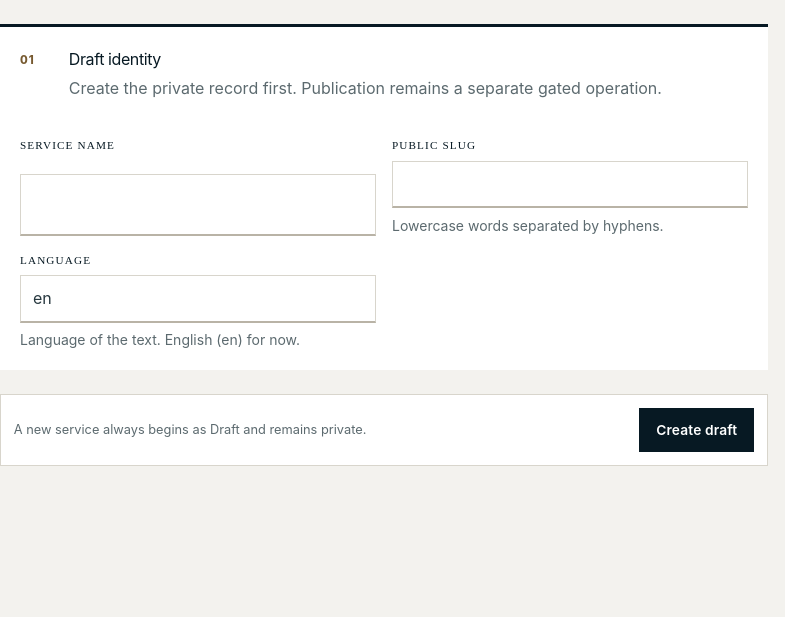
Test: S5A administration states › preserves draft identity values after a recoverable create error
The image size is (785, 617).
Type "SYNTHETIC preserved draft" into the field labelled "Service name". click: (198,205)
box: [20,174,376,236]
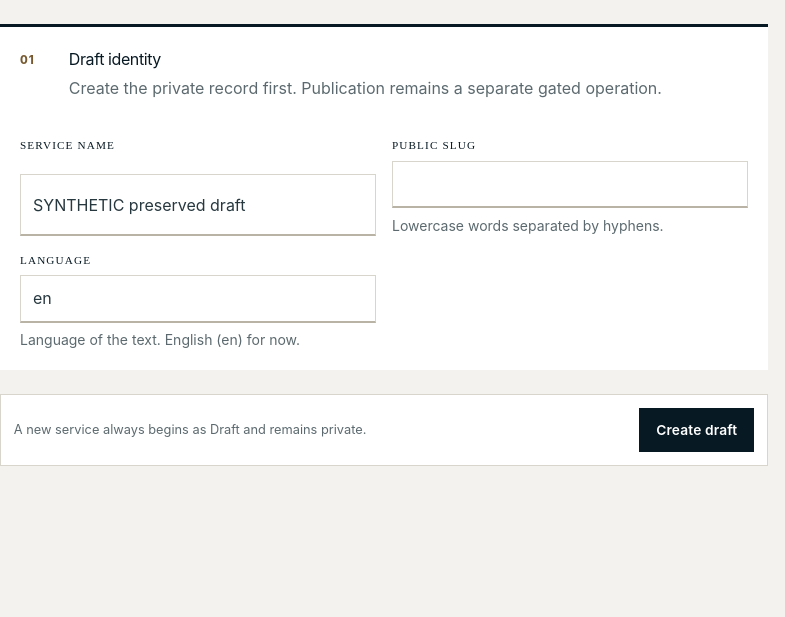
Type "synthetic-preserved-draft" into the field labelled "Public slug". click: (570,184)
box: [392,161,748,208]
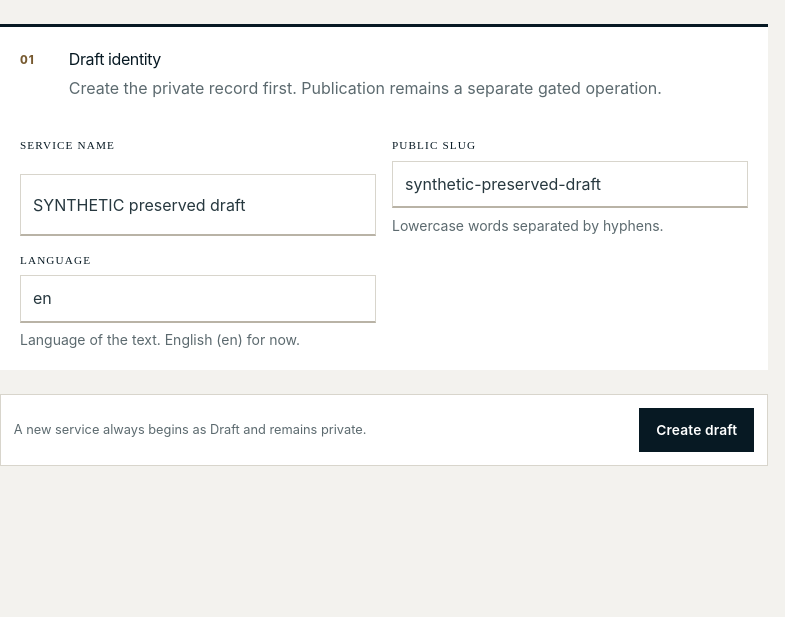
Submit the form
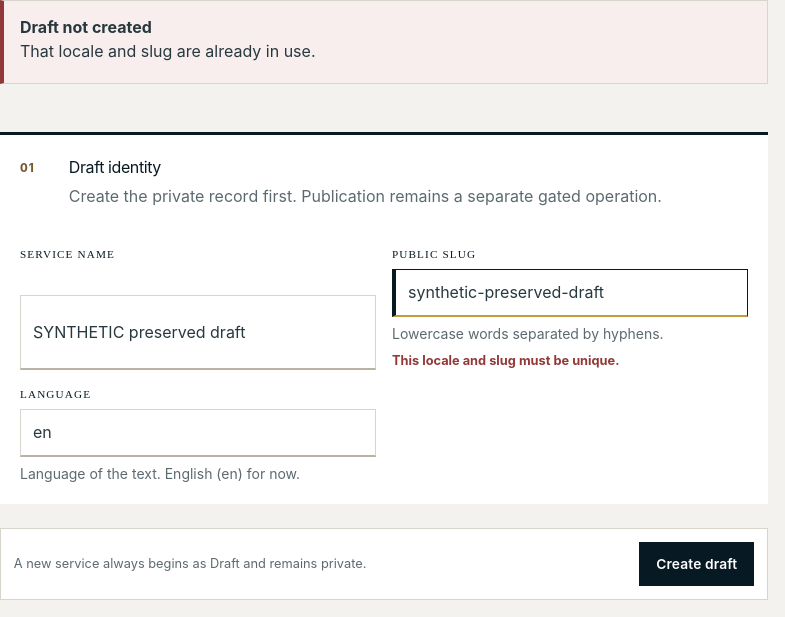
Expected: the text "Draft not created" is shown, [20,17,152,37]
